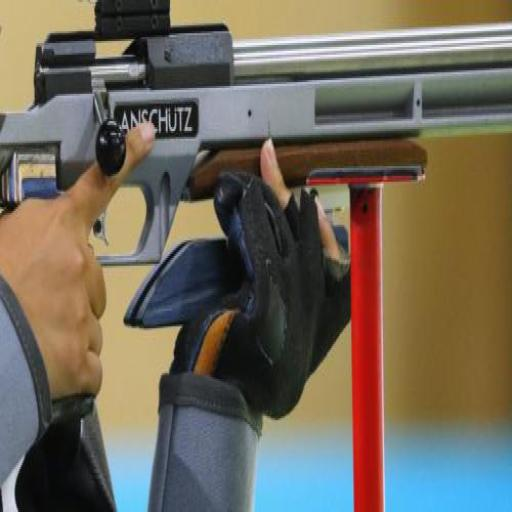shooting: (6, 20, 456, 478)
